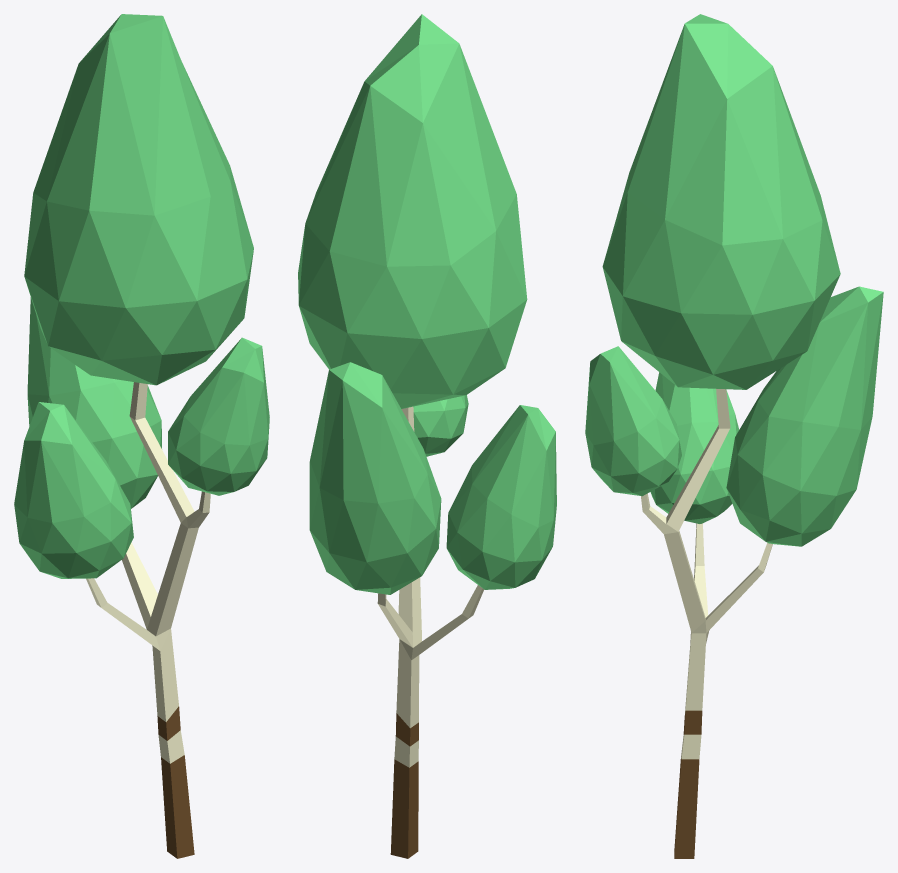
The model's file is tree4.fbx.
The picture shows the model from 3 angles, left to right: view 1: azimuth 30°, elevation 25°; view 2: azimuth 150°, elevation 25°; view 3: azimuth 270°, elevation 25°; orthographic projection. The views are drawn at different scales.
Parts seen in each view (by area): view 1: Icosphere, Icosphere.003, Cube, Icosphere.001, Icosphere.002; view 2: Icosphere, Icosphere.002, Icosphere.003, Cube, Icosphere.001; view 3: Icosphere, Icosphere.002, Cube, Icosphere.001, Icosphere.003.
Boxes of the visible parts, <box> form: Icosphere: <box>24,14,253,385</box>; Icosphere.003: <box>14,402,133,578</box>; Cube: <box>86,382,210,858</box>; Icosphere.001: <box>168,337,269,495</box>; Icosphere.002: <box>27,297,161,508</box>; Icosphere: <box>298,14,527,408</box>; Icosphere.002: <box>309,362,441,594</box>; Icosphere.003: <box>446,405,556,589</box>; Cube: <box>377,406,484,858</box>; Icosphere.001: <box>413,395,468,456</box>; Icosphere: <box>602,14,840,389</box>; Icosphere.002: <box>726,286,883,546</box>; Cube: <box>641,389,772,858</box>; Icosphere.001: <box>585,346,681,496</box>; Icosphere.003: <box>650,372,739,523</box>.
Bounding box in the file's own units: 333 × 1204 × 396.
